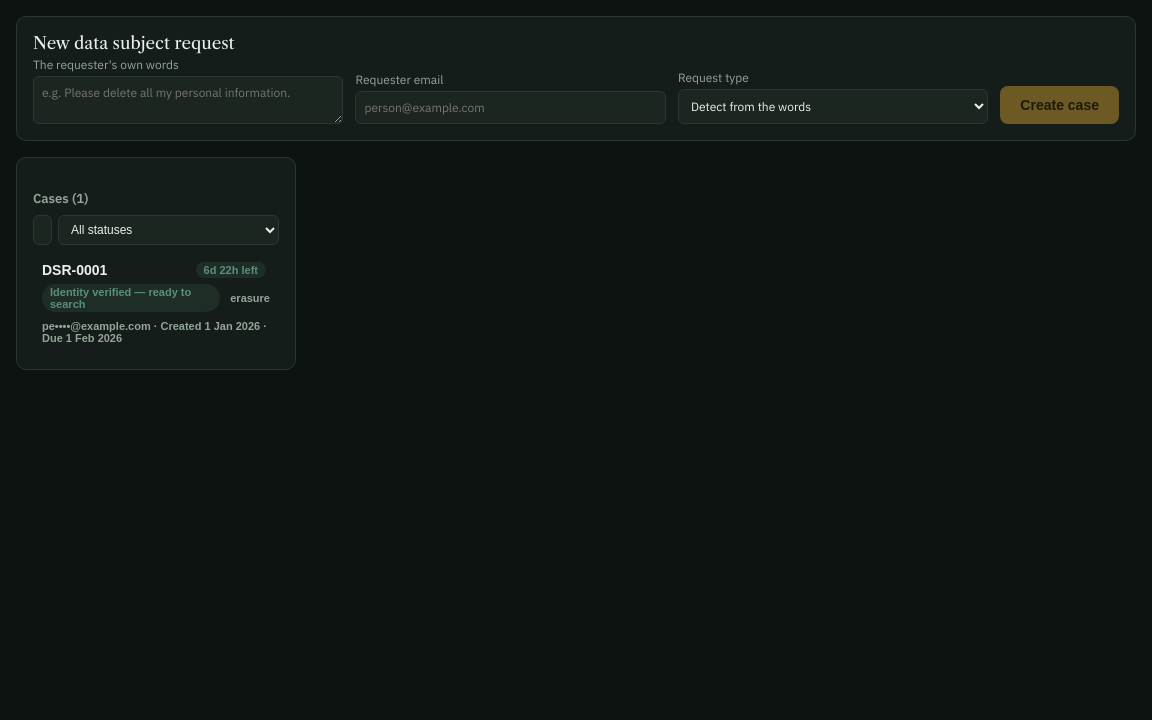
Test: DsrDashboard: evidence tab reflects actual search outcome, not just evidence count › not yet searched: says no search has been run, with the backend's message and next step
This screenshot has width=1152, height=720.
Check: the text "DSR-0001" is shown, box [42,262,107,278]
Step 1. Click the button "DSR-0001" → [156, 303], box [33,253,279,353]
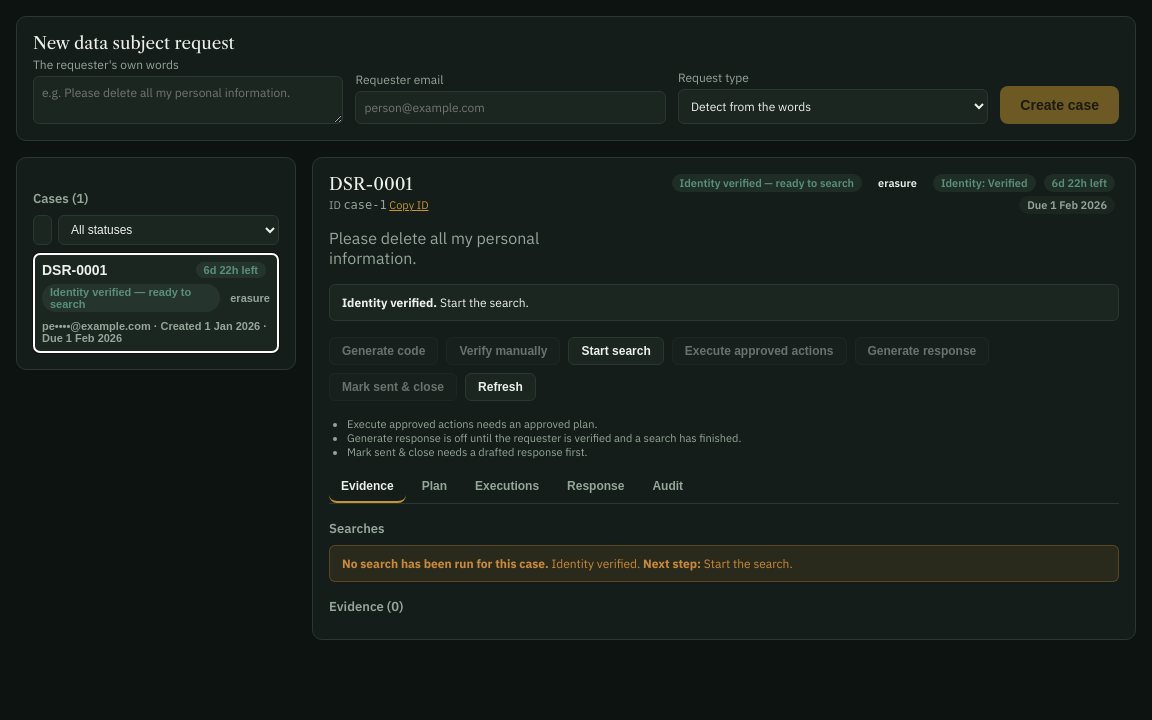
Check: the heading "DSR-0001" is shown, box [329,174,413,194]
Check: the heading "Evidence (0)" is shown, box [329,598,403,615]
Check: the text "No search has been run for this case." is shown, box [342,556,549,571]
